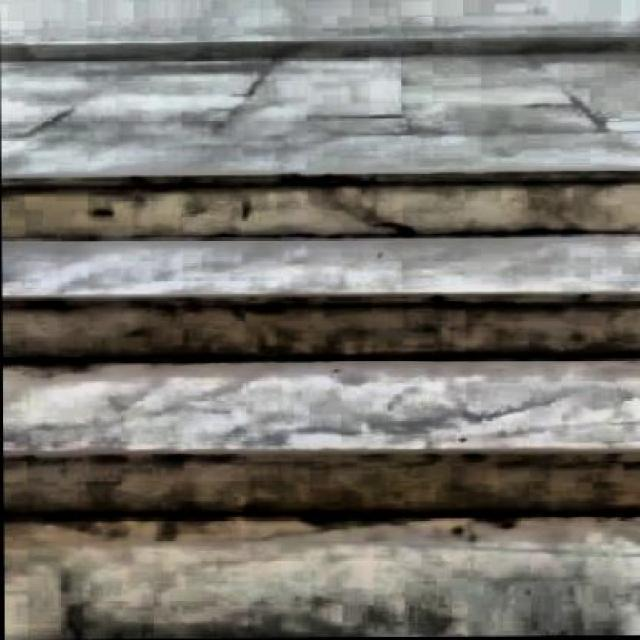stair: (0, 149, 638, 638)
